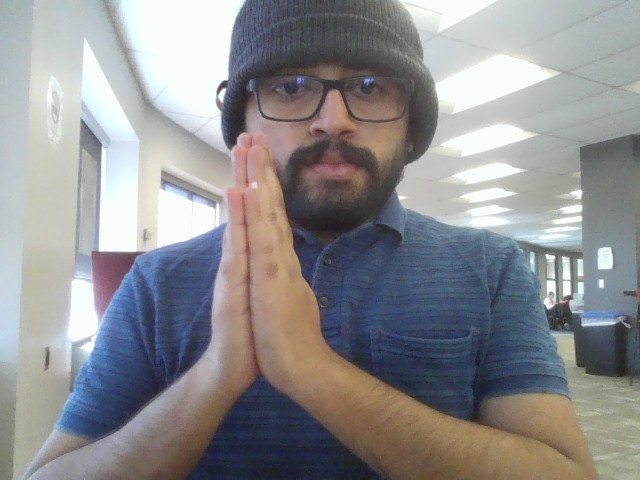start: (193, 117, 325, 437)
